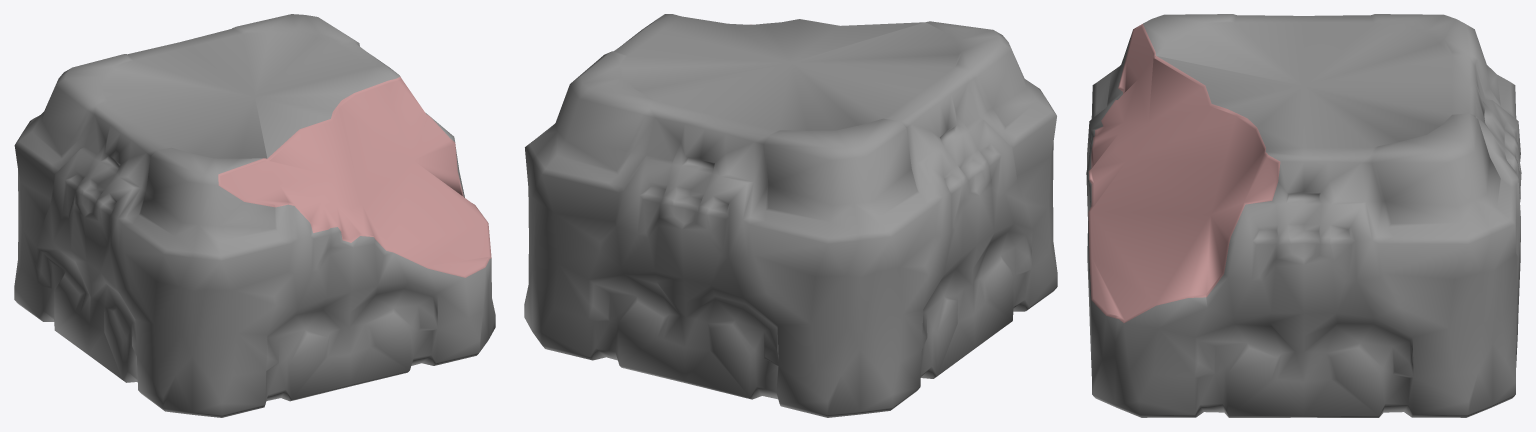
The model's file is RuineBroken1.FBX.
The picture shows the model from 3 angles, left to right: view 1: azimuth 30°, elevation 25°; view 2: azimuth 150°, elevation 25°; view 3: azimuth 270°, elevation 25°; orthographic projection. The views are drawn at different scales.
Visible parts, largest first — view 1: Ruine017; view 2: Ruine017; view 3: Ruine017.
Boxes of the visible parts, x1,y1,x2,y2 form: Ruine017: (14,14,495,417); Ruine017: (524,14,1057,417); Ruine017: (1086,14,1521,417).
Size of the model in its own units: 199 by 126 by 199.
